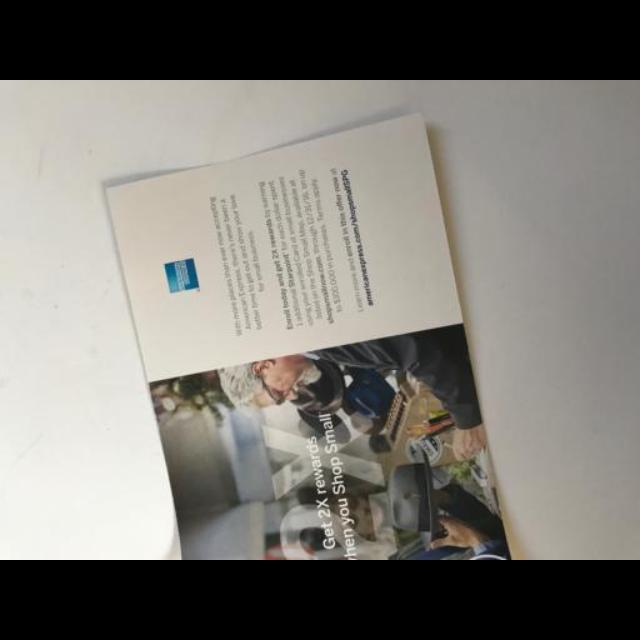papel: (104, 117, 512, 558)
